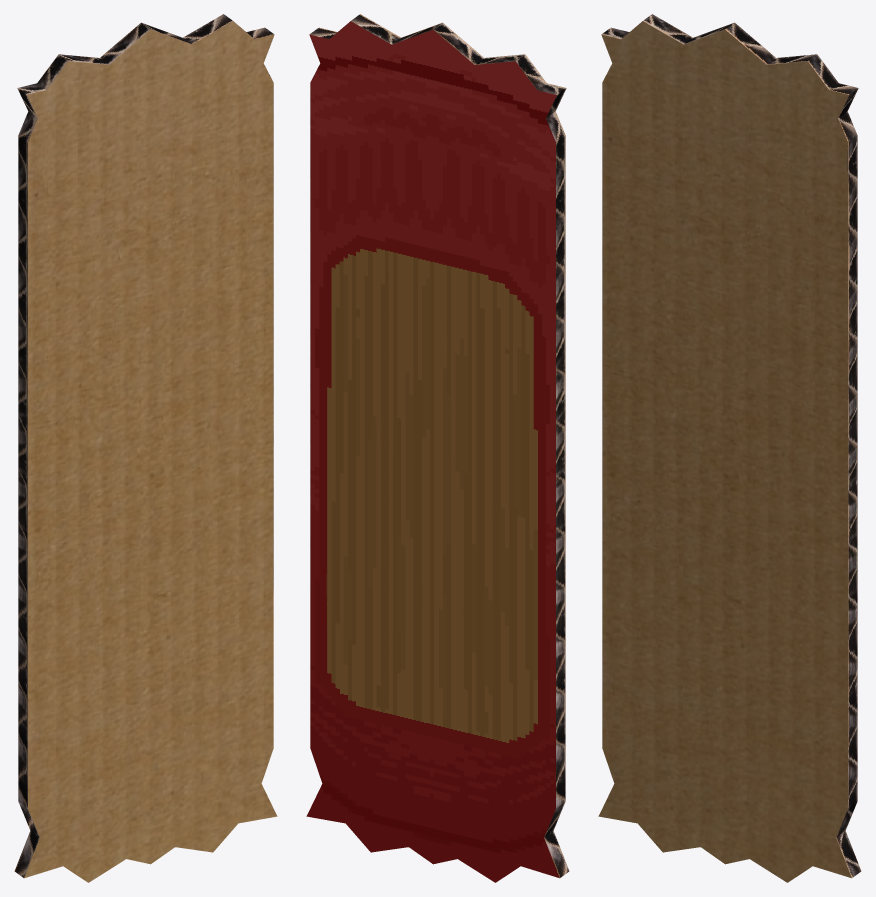
The model's file is FIDEOS LARGOS.glb.
The picture shows the model from 3 angles, left to right: view 1: azimuth 30°, elevation 25°; view 2: azimuth 150°, elevation 25°; view 3: azimuth 330°, elevation 25°; orthographic projection.
Visible parts, largest first — view 1: FIDEOS LARGOS; view 2: FIDEOS LARGOS; view 3: FIDEOS LARGOS.
Part boxes in pixels (x1,y1,x2,y2): FIDEOS LARGOS: [14, 14, 277, 882]; FIDEOS LARGOS: [306, 14, 569, 882]; FIDEOS LARGOS: [598, 14, 861, 882].
Bounding box in the file's own units: 1.37 × 4.34 × 0.09.
1 material, 1 textured.
